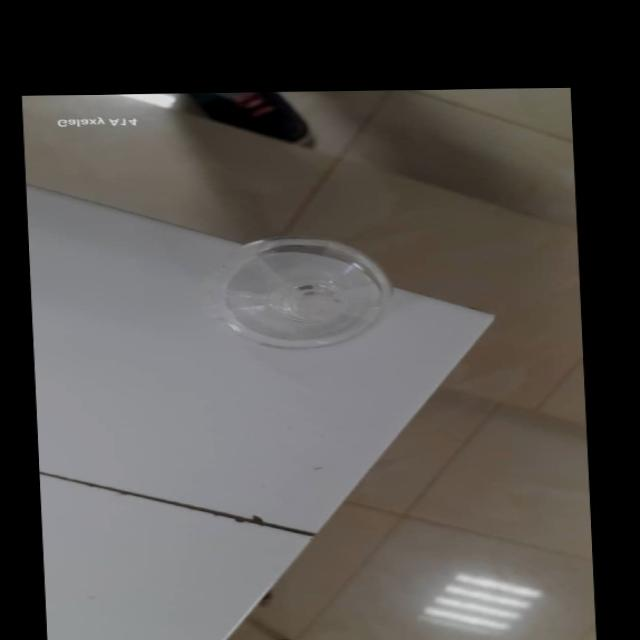Density Bottles for Solids: (208, 228, 397, 354)
